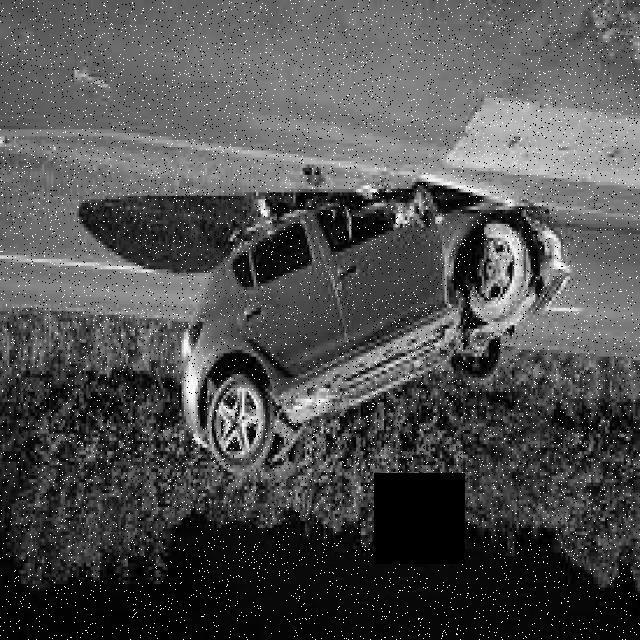severe: (174, 196, 572, 497)
